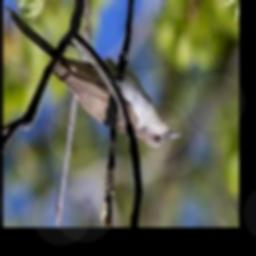Cuckoo: (6, 8, 181, 148)
